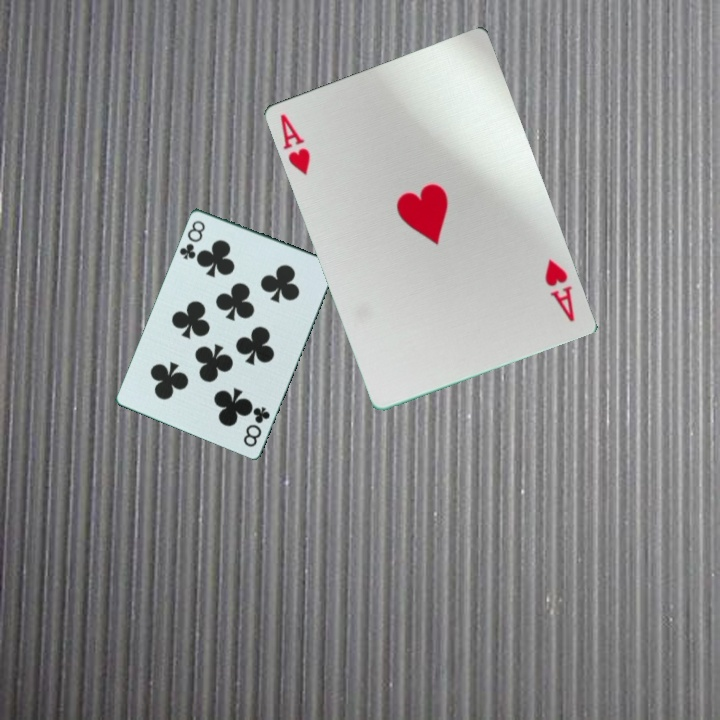8c: (239, 403, 273, 450), (176, 216, 208, 262)
Ah: (540, 255, 577, 325), (275, 110, 313, 177)
